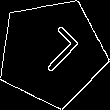L_SW: (23, 24, 81, 81)
